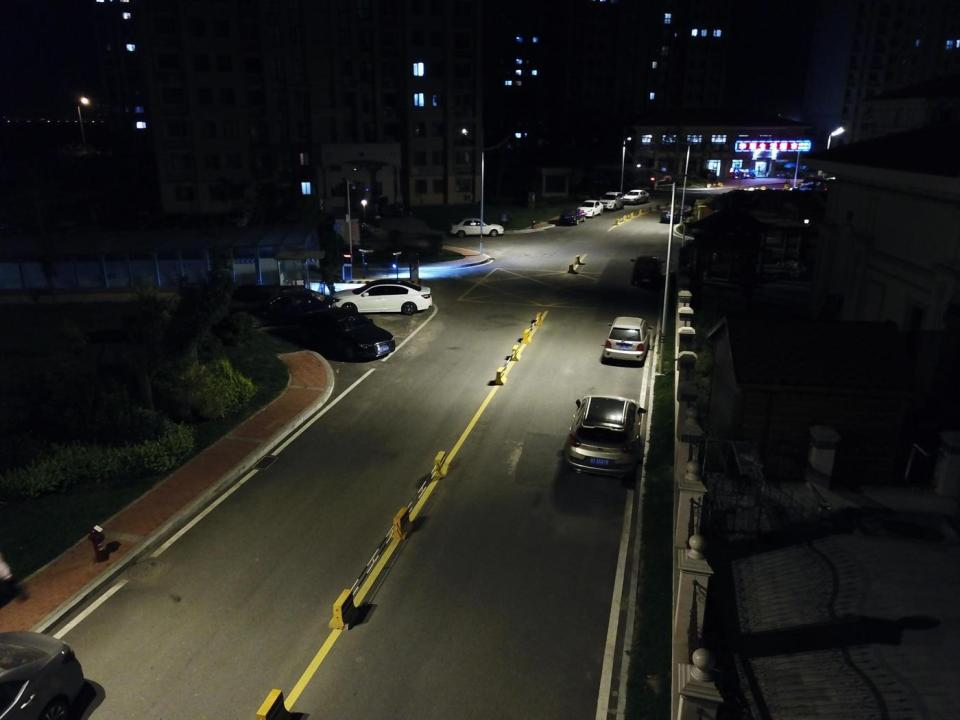car: (563, 394, 647, 480), (296, 308, 395, 360), (233, 289, 338, 328), (332, 278, 432, 314), (603, 316, 650, 364), (449, 217, 504, 237), (631, 254, 664, 284), (333, 221, 375, 237), (661, 204, 696, 222), (598, 192, 625, 211), (576, 200, 604, 218), (622, 188, 649, 204), (560, 208, 586, 224), (790, 184, 822, 194)
